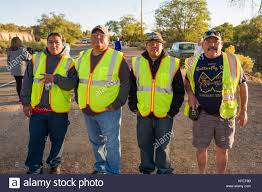NoHardhat: (189, 29, 245, 123), (78, 24, 124, 111), (135, 31, 180, 116), (30, 31, 75, 114)
